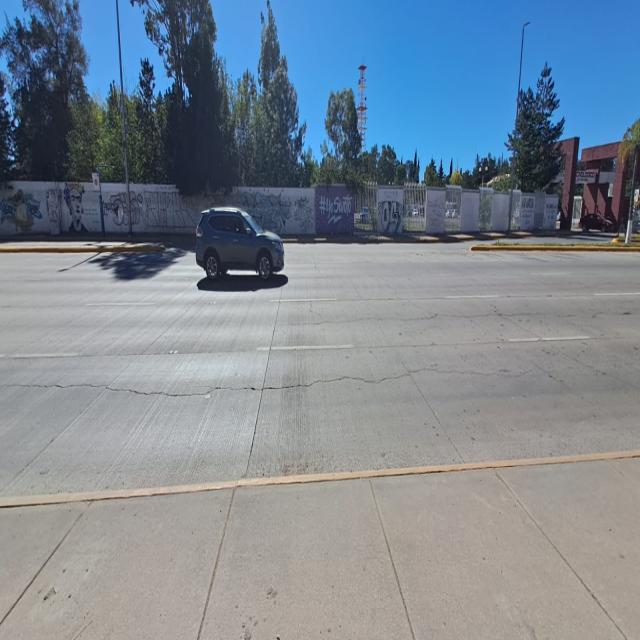Auto: (193, 197, 287, 289)
